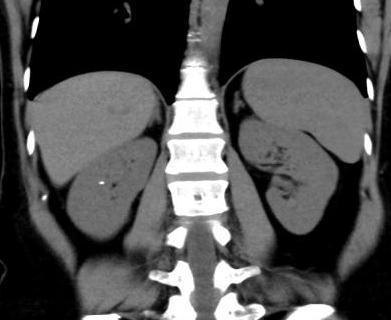Tas_Var: (98, 179, 106, 187)
